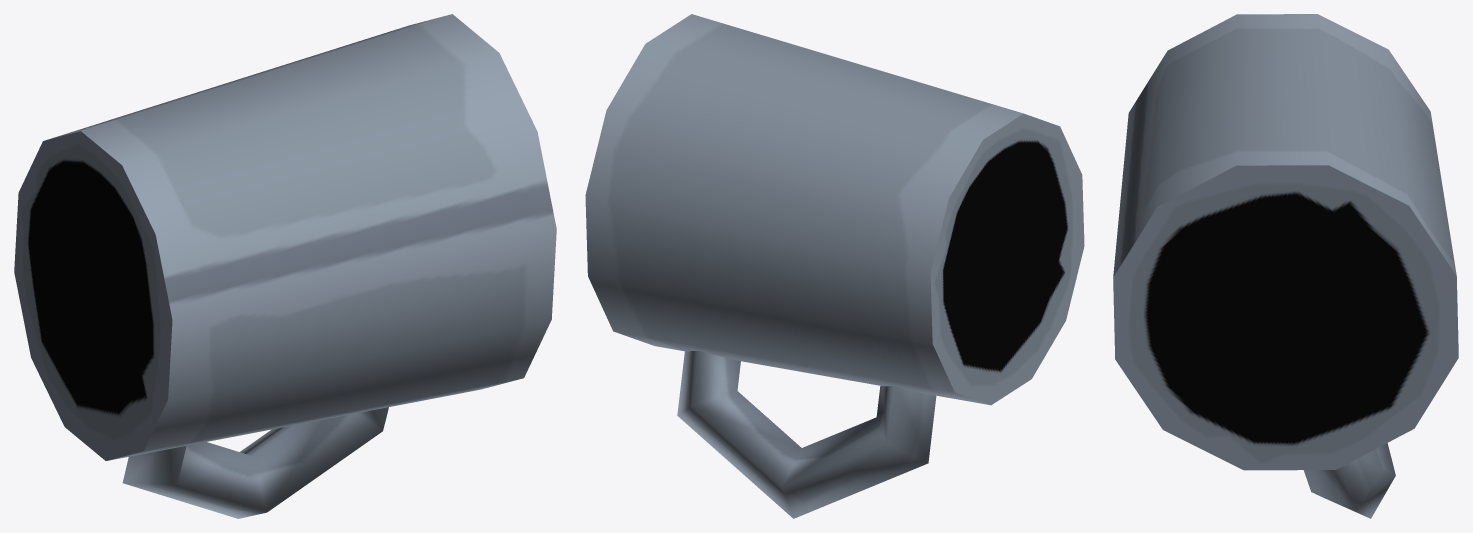
Rendered from HandCuffRight.fbx.
3 views of the same model, side by side, from view 1: azimuth 30°, elevation 25°; view 2: azimuth 150°, elevation 25°; view 3: azimuth 270°, elevation 25° (orthographic). The views are drawn at different scales.
Visible parts, largest first — view 1: HandcuffRight; view 2: HandcuffRight; view 3: HandcuffRight.
Part boxes in pixels (box(x1,y1,x2,y2)): HandcuffRight: box(14, 14, 556, 518); HandcuffRight: box(585, 14, 1084, 518); HandcuffRight: box(1113, 14, 1458, 518).
Bounding box in the file's own units: 12.98 × 14.99 × 10.67.
